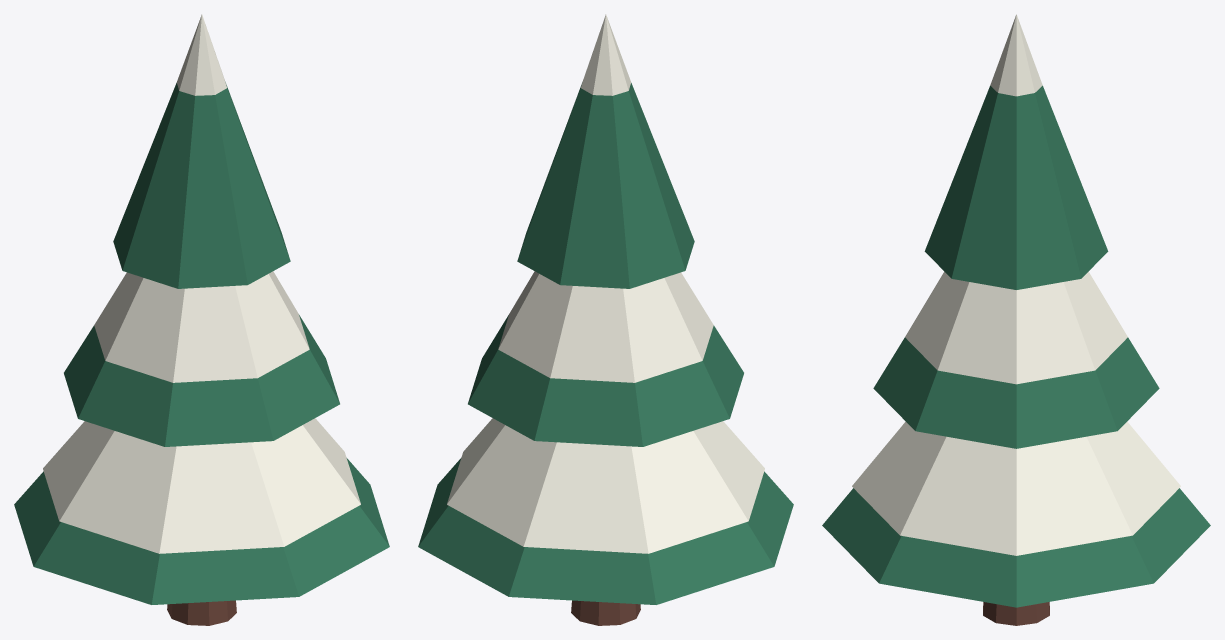
File: turning-seasons-snowy-fir-d1545982__2150.glb
The picture shows the model from 3 angles, left to right: view 1: azimuth 30°, elevation 25°; view 2: azimuth 150°, elevation 25°; view 3: azimuth 270°, elevation 25°; orthographic projection.
Parts seen in each view (by area): view 1: snowy-fir; view 2: snowy-fir; view 3: snowy-fir.
Part boxes in pixels (bbox=[...]): snowy-fir: bbox=[14, 14, 389, 625]; snowy-fir: bbox=[418, 14, 793, 625]; snowy-fir: bbox=[822, 14, 1210, 625].
Bounding box in the file's own units: 1.44 × 2.44 × 1.44.
